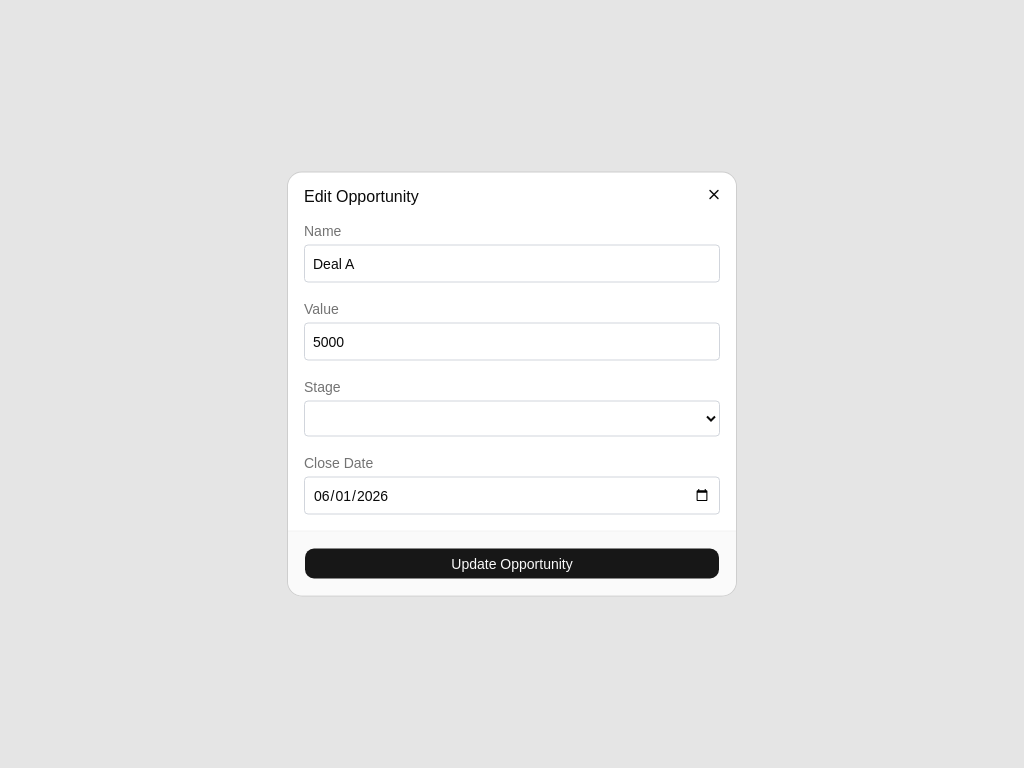
Test: OppEditDialog › shows raw response data as the error when there is no data.error property
The width and height of the screenshot is (1024, 768).
Click the button "Update Opportunity" at (512, 564), box [304,548,720,580]
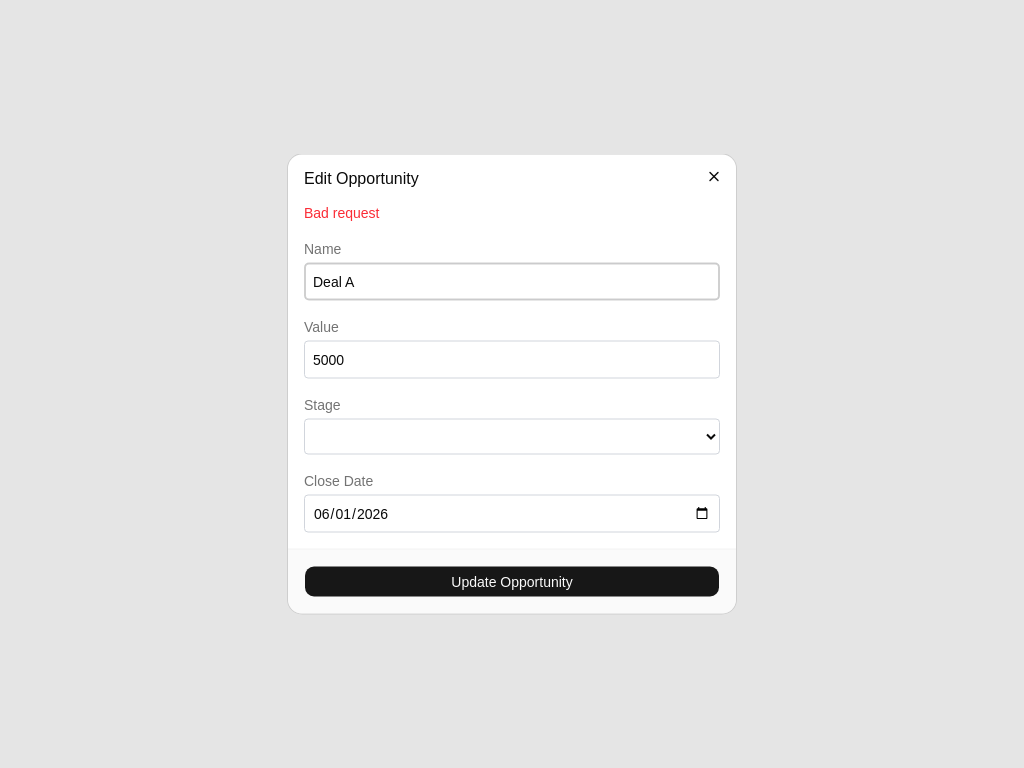
Now the text "Bad request" is shown, box [304,204,380,220]
